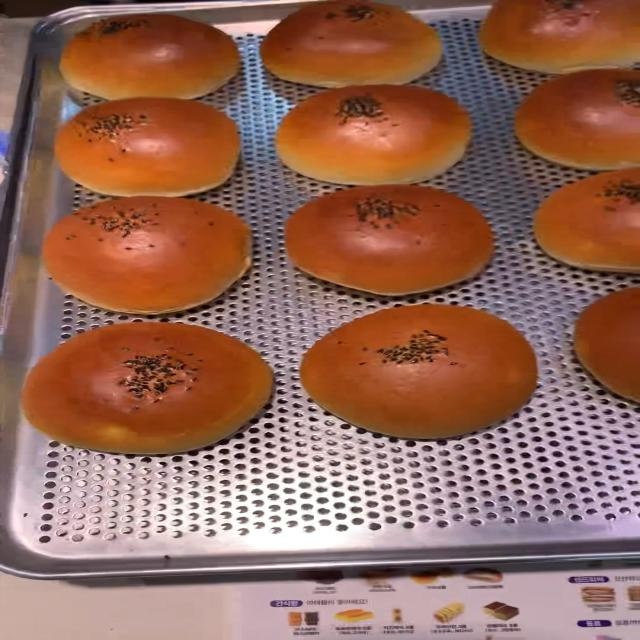bread: (18, 321, 276, 451), (301, 302, 535, 437), (34, 190, 258, 318), (283, 179, 499, 300), (51, 104, 242, 192)
